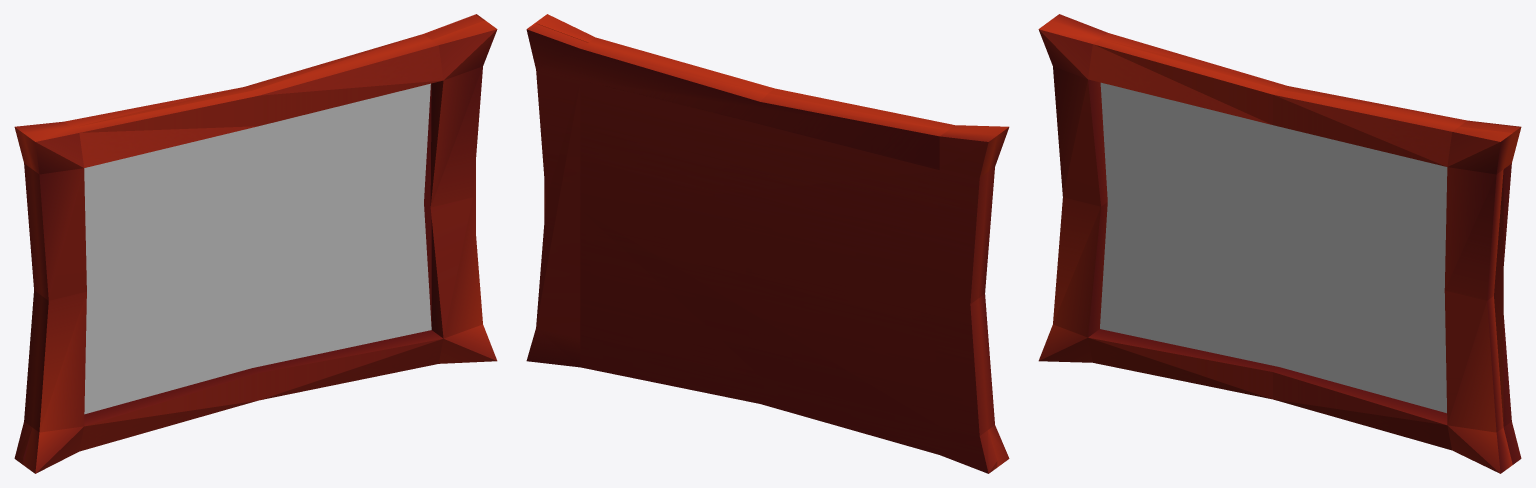
File: Taulu.fbx
3 views of the same model, side by side, from view 1: azimuth 30°, elevation 25°; view 2: azimuth 150°, elevation 25°; view 3: azimuth 330°, elevation 25° (orthographic).
Parts seen in each view (by area): view 1: pCube1; view 2: pCube1; view 3: pCube1.
Part boxes in pixels (left/top/right/bottom): pCube1: left=14, top=14, right=497, bottom=473; pCube1: left=526, top=14, right=1009, bottom=473; pCube1: left=1038, top=14, right=1521, bottom=473.
Bounding box in the file's own units: 4.53 × 3.11 × 0.3537.
